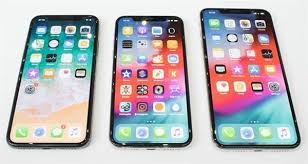iphone: (199, 5, 301, 151), (8, 10, 101, 148), (106, 11, 195, 149)
iphone10: (199, 5, 301, 151), (7, 10, 100, 148), (106, 12, 195, 150)
